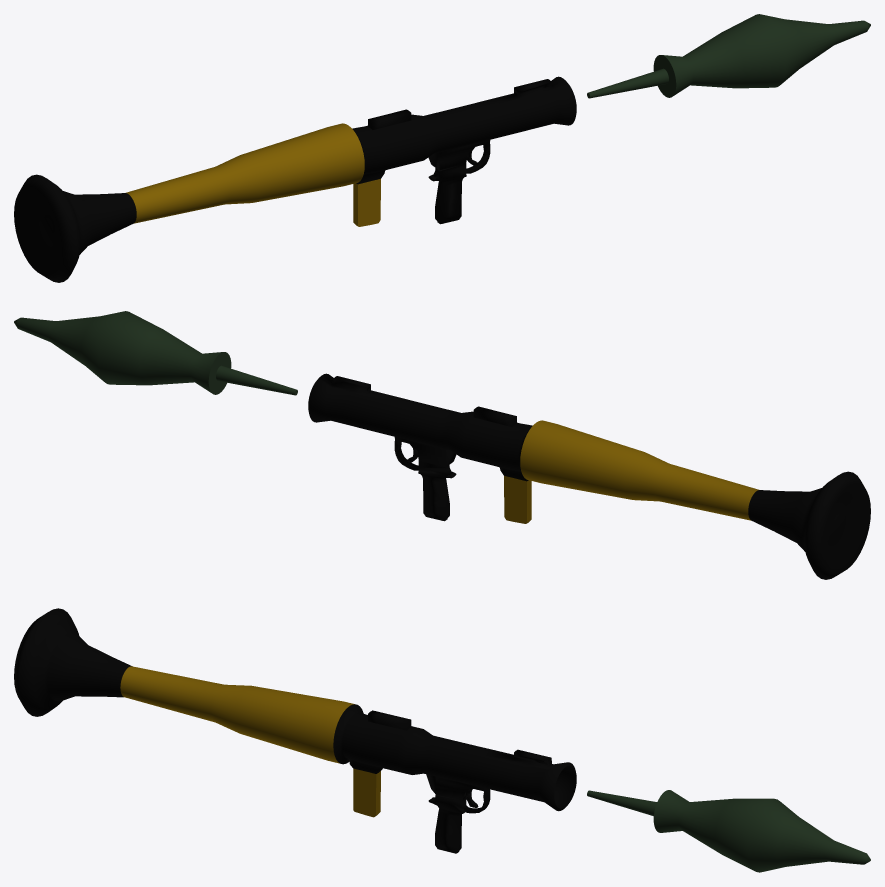
File: RPG.fbx
The picture shows the model from 3 angles, top to bottom: view 1: azimuth 30°, elevation 25°; view 2: azimuth 150°, elevation 25°; view 3: azimuth 330°, elevation 25°; orthographic projection.
Visible parts, largest first — view 1: Bore, Bullet; view 2: Bore, Bullet; view 3: Bore, Bullet.
Part boxes in pixels (left/top/right/bottom): Bore: left=14, top=76, right=576, bottom=282; Bullet: left=587, top=14, right=870, bottom=98; Bore: left=308, top=373, right=870, bottom=579; Bullet: left=14, top=311, right=297, bottom=395; Bore: left=14, top=608, right=576, bottom=853; Bullet: left=587, top=790, right=870, bottom=872.
Size of the model in its own units: 10.9 by 1.75 by 1.29.
